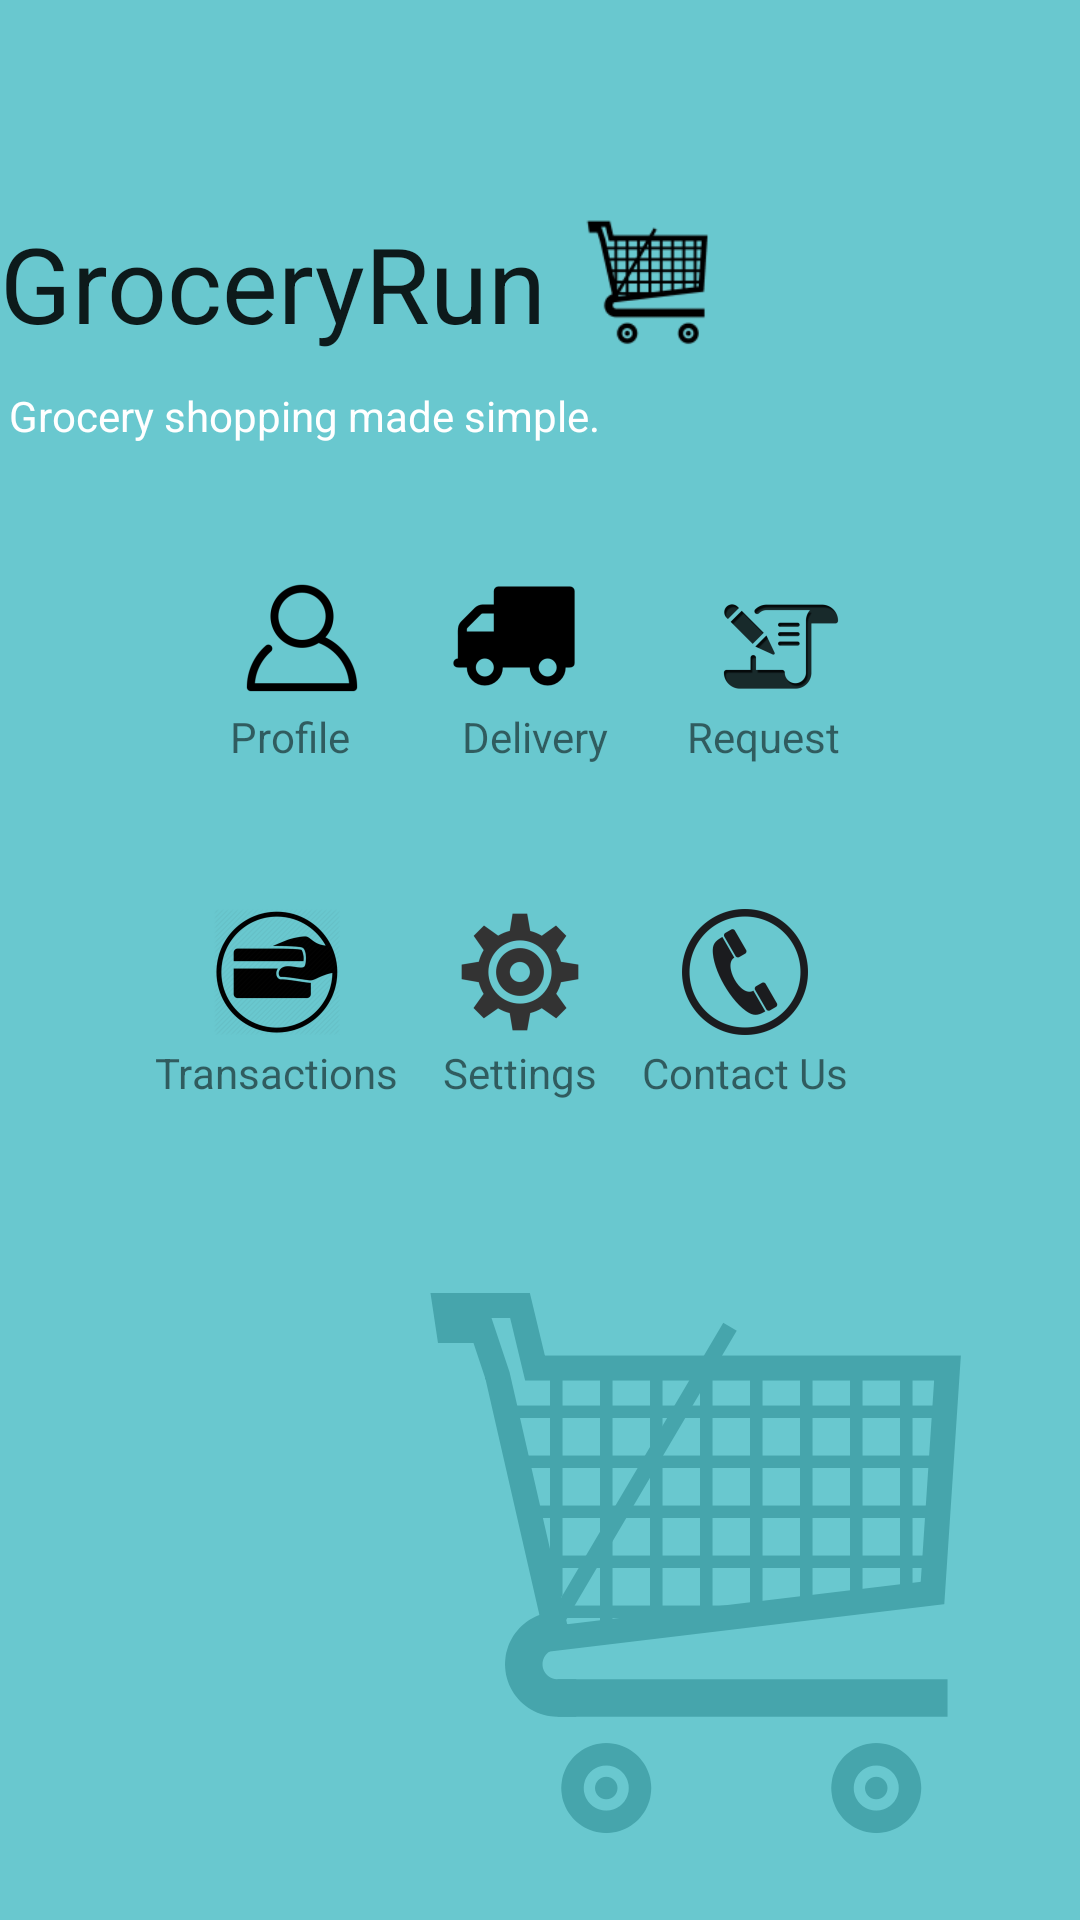

Point at icon controls on the screen. Image size 1080px x 1920px, points as [x,y].
cartb: [647,282]
user: [302,638]
